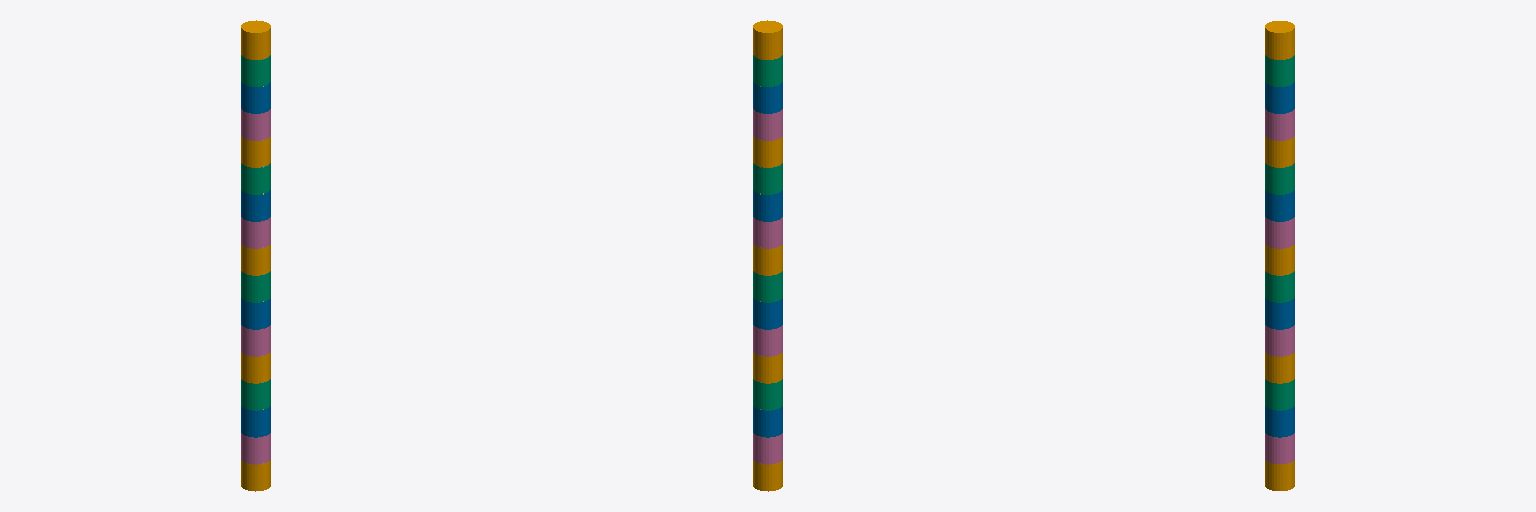
--- Facts derived from the render (not from the file) ---
3 views of the same robot in one strip: view 1: azimuth 30°, elevation 25°; view 2: azimuth 150°, elevation 25°; view 3: azimuth 270°, elevation 25° (orthographic).
Robot: snake — 33 links, 32 joints (32 revolute); root link module_15; default pose: every joint at zero.
Links seen in each view (by area): view 1: module_15, module_14.0, module_12.0, module_7.0, module_6.0, module_5.0, module_0.0, module_11.0, module_10.0, module_9.0, module_3.0, module_2.0 (+5 smaller); view 2: module_15, module_14.0, module_12.0, module_11.0, module_7.0, module_6.0, module_5.0, module_0.0, module_10.0, module_9.0, module_3.0, module_2.0 (+5 smaller); view 3: module_15, module_14.0, module_11.0, module_10.0, module_7.0, module_6.0, module_5.0, module_3.0, module_13.0, module_12.0, module_9.0, module_8.0 (+5 smaller).
Boxes of the visible links, <box> form: module_15: <box>241,20,270,59</box>; module_14.0: <box>241,55,270,86</box>; module_12.0: <box>241,109,270,140</box>; module_7.0: <box>241,244,270,275</box>; module_6.0: <box>241,271,270,302</box>; module_5.0: <box>241,298,270,329</box>; module_0.0: <box>241,433,270,464</box>; module_11.0: <box>241,136,270,167</box>; module_10.0: <box>241,163,270,194</box>; module_9.0: <box>241,190,270,221</box>; module_3.0: <box>241,352,270,383</box>; module_2.0: <box>241,379,270,410</box>; module_15: <box>753,20,782,59</box>; module_14.0: <box>753,55,782,86</box>; module_12.0: <box>753,109,782,140</box>; module_11.0: <box>753,136,782,167</box>; module_7.0: <box>753,244,782,275</box>; module_6.0: <box>753,271,782,302</box>; module_5.0: <box>753,298,782,329</box>; module_0.0: <box>753,433,782,464</box>; module_10.0: <box>753,163,782,194</box>; module_9.0: <box>753,190,782,221</box>; module_3.0: <box>753,352,782,383</box>; module_2.0: <box>753,379,782,410</box>; module_15: <box>1265,21,1294,59</box>; module_14.0: <box>1265,55,1294,86</box>; module_11.0: <box>1265,136,1294,167</box>; module_10.0: <box>1265,163,1294,194</box>; module_7.0: <box>1265,244,1294,275</box>; module_6.0: <box>1265,271,1294,302</box>; module_5.0: <box>1265,298,1294,329</box>; module_3.0: <box>1265,352,1294,383</box>; module_13.0: <box>1265,82,1294,113</box>; module_12.0: <box>1265,109,1294,140</box>; module_9.0: <box>1265,190,1294,221</box>; module_8.0: <box>1265,217,1294,248</box>.
Bounding box of the posed robot: 0.05 × 0.05 × 0.85 m (x, y, z).
Geometry: primitives only (box / cylinder / sphere), no mesh files.

robot.urdf — snake:
<?xml version="1.0" ?>
<!-- =================================================================================== -->
<!-- |    This document was autogenerated by xacro from snake.xacro                    | -->
<!-- |    EDITING THIS FILE BY HAND IS NOT RECOMMENDED                                 | -->
<!-- =================================================================================== -->
<robot name="snake" xmlns:xacro="http://www.ros.org/wiki/xacro">
  <!-- snake properties -->
  <!-- 1=simple_joint -1=springy_joint -->
  <!-- Spring joints are joints with a center springy link-->
  <!-- Spring joint revolute -->
  <!-- Spring joint spherical -->
  <!-- Simple joints are simple, lightly damped and frictioned joints-->
  <!--  -->
  <!-- Simple joint spherical -->
  <link name="module_15">
    <collision>
      <geometry>
        <cylinder length="0.05" radius="0.025"/>
      </geometry>
      <origin rpy="0 0 0" xyz="0 0 -0.025"/>
    </collision>
    <visual>
      <geometry>
        <cylinder length="0.05" radius="0.025"/>
      </geometry>
      <origin rpy="0 0 0" xyz="0 0 -0.025"/>
    </visual>
    <inertial>
      <origin rpy="0 0 0" xyz="0 0 -0.025"/>
      <mass value="0.159"/>
      <inertia ixx="0.00006" ixy="0" ixz="0" iyy="0.00006" iyz="0" izz="0.00006"/>
    </inertial>
  </link>
  <!-- Springy joint -->
  <joint name="joint_15_m" type="revolute">
    <limit effort="1000.0" lower="-1.57075" upper="1.57075" velocity="10"/>
    <dynamics damping="0.001" friction="0.2"/>
    <parent link="module_15"/>
    <child link="spring_15"/>
    <origin xyz="0 0 -0.05"/>
    <axis xyz="0 1 0"/>
  </joint>
  <link name="spring_15">
    <visual>
      <geometry>
        <cylinder length="0.05" radius=".001"/>
      </geometry>
      <origin rpy="1.57075 0 0" xyz="0 0 0"/>
    </visual>
    <inertial>
      <mass value="0.001"/>
      <inertia ixx="0.0" ixy="0.0" ixz="0.0" iyy="0.0" iyz="0.0" izz="0.0"/>
    </inertial>
  </link>
  <joint name="joint_15_14.0" type="revolute">
    <limit effort="1000.0" lower="-1.57075" upper="1.57075" velocity="10"/>
    <!-- <dynamics damping="${damping}" friction="${friction}" /> -->
    <parent link="spring_15"/>
    <child link="module_14.0"/>
    <origin rpy="0 0 0" xyz="0 0 0"/>
    <axis xyz="0 1 0"/>
  </joint>
  <link name="module_14.0">
    <collision>
      <geometry>
        <cylinder length="0.05" radius="0.025"/>
      </geometry>
      <origin rpy="0 0 0" xyz="0 0 -0.025"/>
    </collision>
    <visual>
      <geometry>
        <cylinder length="0.05" radius="0.025"/>
      </geometry>
      <origin rpy="0 0 0" xyz="0 0 -0.025"/>
    </visual>
    <inertial>
      <origin rpy="0 0 0" xyz="0 0 -0.025"/>
      <mass value="0.159"/>
      <inertia ixx="0.00006" ixy="0" ixz="0" iyy="0.00006" iyz="0" izz="0.00006"/>
    </inertial>
  </link>
  <!-- Springy joint -->
  <joint name="joint_14.0_m" type="revolute">
    <limit effort="1000.0" lower="-1.57075" upper="1.57075" velocity="10"/>
    <dynamics damping="0.001" friction="0.2"/>
    <parent link="module_14.0"/>
    <child link="spring_14.0"/>
    <origin xyz="0 0 -0.05"/>
    <axis xyz="1 0 0"/>
  </joint>
  <link name="spring_14.0">
    <visual>
      <geometry>
        <cylinder length="0.05" radius=".001"/>
      </geometry>
      <origin rpy="1.57075 0 0" xyz="0 0 0"/>
    </visual>
    <inertial>
      <mass value="0.001"/>
      <inertia ixx="0.0" ixy="0.0" ixz="0.0" iyy="0.0" iyz="0.0" izz="0.0"/>
    </inertial>
  </link>
  <joint name="joint_14.0_13.0" type="revolute">
    <limit effort="1000.0" lower="-1.57075" upper="1.57075" velocity="10"/>
    <!-- <dynamics damping="${damping}" friction="${friction}" /> -->
    <parent link="spring_14.0"/>
    <child link="module_13.0"/>
    <origin rpy="0 0 0" xyz="0 0 0"/>
    <axis xyz="1 0 0"/>
  </joint>
  <link name="module_13.0">
    <collision>
      <geometry>
        <cylinder length="0.05" radius="0.025"/>
      </geometry>
      <origin rpy="0 0 0" xyz="0 0 -0.025"/>
    </collision>
    <visual>
      <geometry>
        <cylinder length="0.05" radius="0.025"/>
      </geometry>
      <origin rpy="0 0 0" xyz="0 0 -0.025"/>
    </visual>
    <inertial>
      <origin rpy="0 0 0" xyz="0 0 -0.025"/>
      <mass value="0.159"/>
      <inertia ixx="0.00006" ixy="0" ixz="0" iyy="0.00006" iyz="0" izz="0.00006"/>
    </inertial>
  </link>
  <!-- Springy joint -->
  <joint name="joint_13.0_m" type="revolute">
    <limit effort="1000.0" lower="-1.57075" upper="1.57075" velocity="10"/>
    <dynamics damping="0.001" friction="0.2"/>
    <parent link="module_13.0"/>
    <child link="spring_13.0"/>
    <origin xyz="0 0 -0.05"/>
    <axis xyz="0 1 0"/>
  </joint>
  <link name="spring_13.0">
    <visual>
      <geometry>
        <cylinder length="0.05" radius=".001"/>
      </geometry>
      <origin rpy="1.57075 0 0" xyz="0 0 0"/>
    </visual>
    <inertial>
      <mass value="0.001"/>
      <inertia ixx="0.0" ixy="0.0" ixz="0.0" iyy="0.0" iyz="0.0" izz="0.0"/>
    </inertial>
  </link>
  <joint name="joint_13.0_12.0" type="revolute">
    <limit effort="1000.0" lower="-1.57075" upper="1.57075" velocity="10"/>
    <!-- <dynamics damping="${damping}" friction="${friction}" /> -->
    <parent link="spring_13.0"/>
    <child link="module_12.0"/>
    <origin rpy="0 0 0" xyz="0 0 0"/>
    <axis xyz="0 1 0"/>
  </joint>
  <link name="module_12.0">
    <collision>
      <geometry>
        <cylinder length="0.05" radius="0.025"/>
      </geometry>
      <origin rpy="0 0 0" xyz="0 0 -0.025"/>
    </collision>
    <visual>
      <geometry>
        <cylinder length="0.05" radius="0.025"/>
      </geometry>
      <origin rpy="0 0 0" xyz="0 0 -0.025"/>
    </visual>
    <inertial>
      <origin rpy="0 0 0" xyz="0 0 -0.025"/>
      <mass value="0.159"/>
      <inertia ixx="0.00006" ixy="0" ixz="0" iyy="0.00006" iyz="0" izz="0.00006"/>
    </inertial>
  </link>
  <!-- Springy joint -->
  <joint name="joint_12.0_m" type="revolute">
    <limit effort="1000.0" lower="-1.57075" upper="1.57075" velocity="10"/>
    <dynamics damping="0.001" friction="0.2"/>
    <parent link="module_12.0"/>
    <child link="spring_12.0"/>
    <origin xyz="0 0 -0.05"/>
    <axis xyz="1 0 0"/>
  </joint>
  <link name="spring_12.0">
    <visual>
      <geometry>
        <cylinder length="0.05" radius=".001"/>
      </geometry>
      <origin rpy="1.57075 0 0" xyz="0 0 0"/>
    </visual>
    <inertial>
      <mass value="0.001"/>
      <inertia ixx="0.0" ixy="0.0" ixz="0.0" iyy="0.0" iyz="0.0" izz="0.0"/>
    </inertial>
  </link>
  <joint name="joint_12.0_11.0" type="revolute">
    <limit effort="1000.0" lower="-1.57075" upper="1.57075" velocity="10"/>
    <!-- <dynamics damping="${damping}" friction="${friction}" /> -->
    <parent link="spring_12.0"/>
    <child link="module_11.0"/>
    <origin rpy="0 0 0" xyz="0 0 0"/>
    <axis xyz="1 0 0"/>
  </joint>
  <link name="module_11.0">
    <collision>
      <geometry>
        <cylinder length="0.05" radius="0.025"/>
      </geometry>
      <origin rpy="0 0 0" xyz="0 0 -0.025"/>
    </collision>
    <visual>
      <geometry>
        <cylinder length="0.05" radius="0.025"/>
      </geometry>
      <origin rpy="0 0 0" xyz="0 0 -0.025"/>
    </visual>
    <inertial>
      <origin rpy="0 0 0" xyz="0 0 -0.025"/>
      <mass value="0.159"/>
      <inertia ixx="0.00006" ixy="0" ixz="0" iyy="0.00006" iyz="0" izz="0.00006"/>
    </inertial>
  </link>
  <!-- Springy joint -->
  <joint name="joint_11.0_m" type="revolute">
    <limit effort="1000.0" lower="-1.57075" upper="1.57075" velocity="10"/>
    <dynamics damping="0.001" friction="0.2"/>
    <parent link="module_11.0"/>
    <child link="spring_11.0"/>
    <origin xyz="0 0 -0.05"/>
    <axis xyz="0 1 0"/>
  </joint>
  <link name="spring_11.0">
    <visual>
      <geometry>
        <cylinder length="0.05" radius=".001"/>
      </geometry>
      <origin rpy="1.57075 0 0" xyz="0 0 0"/>
    </visual>
    <inertial>
      <mass value="0.001"/>
      <inertia ixx="0.0" ixy="0.0" ixz="0.0" iyy="0.0" iyz="0.0" izz="0.0"/>
    </inertial>
  </link>
  <joint name="joint_11.0_10.0" type="revolute">
    <limit effort="1000.0" lower="-1.57075" upper="1.57075" velocity="10"/>
    <!-- <dynamics damping="${damping}" friction="${friction}" /> -->
    <parent link="spring_11.0"/>
    <child link="module_10.0"/>
    <origin rpy="0 0 0" xyz="0 0 0"/>
    <axis xyz="0 1 0"/>
  </joint>
  <link name="module_10.0">
    <collision>
      <geometry>
        <cylinder length="0.05" radius="0.025"/>
      </geometry>
      <origin rpy="0 0 0" xyz="0 0 -0.025"/>
    </collision>
    <visual>
      <geometry>
        <cylinder length="0.05" radius="0.025"/>
      </geometry>
      <origin rpy="0 0 0" xyz="0 0 -0.025"/>
    </visual>
    <inertial>
      <origin rpy="0 0 0" xyz="0 0 -0.025"/>
      <mass value="0.159"/>
      <inertia ixx="0.00006" ixy="0" ixz="0" iyy="0.00006" iyz="0" izz="0.00006"/>
    </inertial>
  </link>
  <!-- Springy joint -->
  <joint name="joint_10.0_m" type="revolute">
    <limit effort="1000.0" lower="-1.57075" upper="1.57075" velocity="10"/>
    <dynamics damping="0.001" friction="0.2"/>
    <parent link="module_10.0"/>
    <child link="spring_10.0"/>
    <origin xyz="0 0 -0.05"/>
    <axis xyz="1 0 0"/>
  </joint>
  <link name="spring_10.0">
    <visual>
      <geometry>
        <cylinder length="0.05" radius=".001"/>
      </geometry>
      <origin rpy="1.57075 0 0" xyz="0 0 0"/>
    </visual>
    <inertial>
      <mass value="0.001"/>
      <inertia ixx="0.0" ixy="0.0" ixz="0.0" iyy="0.0" iyz="0.0" izz="0.0"/>
    </inertial>
  </link>
  <joint name="joint_10.0_9.0" type="revolute">
    <limit effort="1000.0" lower="-1.57075" upper="1.57075" velocity="10"/>
    <!-- <dynamics damping="${damping}" friction="${friction}" /> -->
    <parent link="spring_10.0"/>
    <child link="module_9.0"/>
    <origin rpy="0 0 0" xyz="0 0 0"/>
    <axis xyz="1 0 0"/>
  </joint>
  <link name="module_9.0">
    <collision>
      <geometry>
        <cylinder length="0.05" radius="0.025"/>
      </geometry>
      <origin rpy="0 0 0" xyz="0 0 -0.025"/>
    </collision>
    <visual>
      <geometry>
        <cylinder length="0.05" radius="0.025"/>
      </geometry>
      <origin rpy="0 0 0" xyz="0 0 -0.025"/>
    </visual>
    <inertial>
      <origin rpy="0 0 0" xyz="0 0 -0.025"/>
      <mass value="0.159"/>
      <inertia ixx="0.00006" ixy="0" ixz="0" iyy="0.00006" iyz="0" izz="0.00006"/>
    </inertial>
  </link>
  <!-- Springy joint -->
  <joint name="joint_9.0_m" type="revolute">
    <limit effort="1000.0" lower="-1.57075" upper="1.57075" velocity="10"/>
    <dynamics damping="0.001" friction="0.2"/>
    <parent link="module_9.0"/>
    <child link="spring_9.0"/>
    <origin xyz="0 0 -0.05"/>
    <axis xyz="0 1 0"/>
  </joint>
  <link name="spring_9.0">
    <visual>
      <geometry>
        <cylinder length="0.05" radius=".001"/>
      </geometry>
      <origin rpy="1.57075 0 0" xyz="0 0 0"/>
    </visual>
    <inertial>
      <mass value="0.001"/>
      <inertia ixx="0.0" ixy="0.0" ixz="0.0" iyy="0.0" iyz="0.0" izz="0.0"/>
    </inertial>
  </link>
  <joint name="joint_9.0_8.0" type="revolute">
    <limit effort="1000.0" lower="-1.57075" upper="1.57075" velocity="10"/>
    <!-- <dynamics damping="${damping}" friction="${friction}" /> -->
    <parent link="spring_9.0"/>
    <child link="module_8.0"/>
    <origin rpy="0 0 0" xyz="0 0 0"/>
    <axis xyz="0 1 0"/>
  </joint>
  <link name="module_8.0">
    <collision>
      <geometry>
        <cylinder length="0.05" radius="0.025"/>
      </geometry>
      <origin rpy="0 0 0" xyz="0 0 -0.025"/>
    </collision>
    <visual>
      <geometry>
        <cylinder length="0.05" radius="0.025"/>
      </geometry>
      <origin rpy="0 0 0" xyz="0 0 -0.025"/>
    </visual>
    <inertial>
      <origin rpy="0 0 0" xyz="0 0 -0.025"/>
      <mass value="0.159"/>
      <inertia ixx="0.00006" ixy="0" ixz="0" iyy="0.00006" iyz="0" izz="0.00006"/>
    </inertial>
  </link>
  <!-- Springy joint -->
  <joint name="joint_8.0_m" type="revolute">
    <limit effort="1000.0" lower="-1.57075" upper="1.57075" velocity="10"/>
    <dynamics damping="0.001" friction="0.2"/>
    <parent link="module_8.0"/>
    <child link="spring_8.0"/>
    <origin xyz="0 0 -0.05"/>
    <axis xyz="1 0 0"/>
  </joint>
  <link name="spring_8.0">
    <visual>
      <geometry>
        <cylinder length="0.05" radius=".001"/>
      </geometry>
      <origin rpy="1.57075 0 0" xyz="0 0 0"/>
    </visual>
    <inertial>
      <mass value="0.001"/>
      <inertia ixx="0.0" ixy="0.0" ixz="0.0" iyy="0.0" iyz="0.0" izz="0.0"/>
    </inertial>
  </link>
  <joint name="joint_8.0_7.0" type="revolute">
    <limit effort="1000.0" lower="-1.57075" upper="1.57075" velocity="10"/>
    <!-- <dynamics damping="${damping}" friction="${friction}" /> -->
    <parent link="spring_8.0"/>
    <child link="module_7.0"/>
    <origin rpy="0 0 0" xyz="0 0 0"/>
    <axis xyz="1 0 0"/>
  </joint>
  <link name="module_7.0">
    <collision>
      <geometry>
        <cylinder length="0.05" radius="0.025"/>
      </geometry>
      <origin rpy="0 0 0" xyz="0 0 -0.025"/>
    </collision>
    <visual>
      <geometry>
        <cylinder length="0.05" radius="0.025"/>
      </geometry>
      <origin rpy="0 0 0" xyz="0 0 -0.025"/>
    </visual>
    <inertial>
      <origin rpy="0 0 0" xyz="0 0 -0.025"/>
      <mass value="0.159"/>
      <inertia ixx="0.00006" ixy="0" ixz="0" iyy="0.00006" iyz="0" izz="0.00006"/>
    </inertial>
  </link>
  <!-- Springy joint -->
  <joint name="joint_7.0_m" type="revolute">
    <limit effort="1000.0" lower="-1.57075" upper="1.57075" velocity="10"/>
    <dynamics damping="0.001" friction="0.2"/>
    <parent link="module_7.0"/>
    <child link="spring_7.0"/>
    <origin xyz="0 0 -0.05"/>
    <axis xyz="0 1 0"/>
  </joint>
  <link name="spring_7.0">
    <visual>
      <geometry>
        <cylinder length="0.05" radius=".001"/>
      </geometry>
      <origin rpy="1.57075 0 0" xyz="0 0 0"/>
    </visual>
    <inertial>
      <mass value="0.001"/>
      <inertia ixx="0.0" ixy="0.0" ixz="0.0" iyy="0.0" iyz="0.0" izz="0.0"/>
    </inertial>
  </link>
  <joint name="joint_7.0_6.0" type="revolute">
    <limit effort="1000.0" lower="-1.57075" upper="1.57075" velocity="10"/>
    <!-- <dynamics damping="${damping}" friction="${friction}" /> -->
    <parent link="spring_7.0"/>
    <child link="module_6.0"/>
    <origin rpy="0 0 0" xyz="0 0 0"/>
    <axis xyz="0 1 0"/>
  </joint>
  <link name="module_6.0">
    <collision>
      <geometry>
        <cylinder length="0.05" radius="0.025"/>
      </geometry>
      <origin rpy="0 0 0" xyz="0 0 -0.025"/>
    </collision>
    <visual>
      <geometry>
        <cylinder length="0.05" radius="0.025"/>
      </geometry>
      <origin rpy="0 0 0" xyz="0 0 -0.025"/>
    </visual>
    <inertial>
      <origin rpy="0 0 0" xyz="0 0 -0.025"/>
      <mass value="0.159"/>
      <inertia ixx="0.00006" ixy="0" ixz="0" iyy="0.00006" iyz="0" izz="0.00006"/>
    </inertial>
  </link>
  <!-- Springy joint -->
  <joint name="joint_6.0_m" type="revolute">
    <limit effort="1000.0" lower="-1.57075" upper="1.57075" velocity="10"/>
    <dynamics damping="0.001" friction="0.2"/>
    <parent link="module_6.0"/>
    <child link="spring_6.0"/>
    <origin xyz="0 0 -0.05"/>
    <axis xyz="1 0 0"/>
  </joint>
  <link name="spring_6.0">
    <visual>
      <geometry>
        <cylinder length="0.05" radius=".001"/>
      </geometry>
      <origin rpy="1.57075 0 0" xyz="0 0 0"/>
    </visual>
    <inertial>
      <mass value="0.001"/>
      <inertia ixx="0.0" ixy="0.0" ixz="0.0" iyy="0.0" iyz="0.0" izz="0.0"/>
    </inertial>
  </link>
  <joint name="joint_6.0_5.0" type="revolute">
    <limit effort="1000.0" lower="-1.57075" upper="1.57075" velocity="10"/>
    <!-- <dynamics damping="${damping}" friction="${friction}" /> -->
    <parent link="spring_6.0"/>
    <child link="module_5.0"/>
    <origin rpy="0 0 0" xyz="0 0 0"/>
    <axis xyz="1 0 0"/>
  </joint>
  <link name="module_5.0">
    <collision>
      <geometry>
        <cylinder length="0.05" radius="0.025"/>
      </geometry>
      <origin rpy="0 0 0" xyz="0 0 -0.025"/>
    </collision>
    <visual>
      <geometry>
        <cylinder length="0.05" radius="0.025"/>
      </geometry>
      <origin rpy="0 0 0" xyz="0 0 -0.025"/>
    </visual>
    <inertial>
      <origin rpy="0 0 0" xyz="0 0 -0.025"/>
      <mass value="0.159"/>
      <inertia ixx="0.00006" ixy="0" ixz="0" iyy="0.00006" iyz="0" izz="0.00006"/>
    </inertial>
  </link>
  <!-- Springy joint -->
  <joint name="joint_5.0_m" type="revolute">
    <limit effort="1000.0" lower="-1.57075" upper="1.57075" velocity="10"/>
    <dynamics damping="0.001" friction="0.2"/>
    <parent link="module_5.0"/>
    <child link="spring_5.0"/>
    <origin xyz="0 0 -0.05"/>
    <axis xyz="0 1 0"/>
  </joint>
  <link name="spring_5.0">
    <visual>
      <geometry>
        <cylinder length="0.05" radius=".001"/>
      </geometry>
      <origin rpy="1.57075 0 0" xyz="0 0 0"/>
    </visual>
    <inertial>
      <mass value="0.001"/>
      <inertia ixx="0.0" ixy="0.0" ixz="0.0" iyy="0.0" iyz="0.0" izz="0.0"/>
    </inertial>
  </link>
  <joint name="joint_5.0_4.0" type="revolute">
    <limit effort="1000.0" lower="-1.57075" upper="1.57075" velocity="10"/>
    <!-- <dynamics damping="${damping}" friction="${friction}" /> -->
    <parent link="spring_5.0"/>
    <child link="module_4.0"/>
    <origin rpy="0 0 0" xyz="0 0 0"/>
    <axis xyz="0 1 0"/>
  </joint>
  <link name="module_4.0">
    <collision>
      <geometry>
        <cylinder length="0.05" radius="0.025"/>
      </geometry>
      <origin rpy="0 0 0" xyz="0 0 -0.025"/>
    </collision>
    <visual>
      <geometry>
        <cylinder length="0.05" radius="0.025"/>
      </geometry>
      <origin rpy="0 0 0" xyz="0 0 -0.025"/>
    </visual>
    <inertial>
      <origin rpy="0 0 0" xyz="0 0 -0.025"/>
      <mass value="0.159"/>
      <inertia ixx="0.00006" ixy="0" ixz="0" iyy="0.00006" iyz="0" izz="0.00006"/>
    </inertial>
  </link>
  <!-- Springy joint -->
  <joint name="joint_4.0_m" type="revolute">
    <limit effort="1000.0" lower="-1.57075" upper="1.57075" velocity="10"/>
    <dynamics damping="0.001" friction="0.2"/>
    <parent link="module_4.0"/>
    <child link="spring_4.0"/>
    <origin xyz="0 0 -0.05"/>
    <axis xyz="1 0 0"/>
  </joint>
  <link name="spring_4.0">
    <visual>
      <geometry>
        <cylinder length="0.05" radius=".001"/>
      </geometry>
      <origin rpy="1.57075 0 0" xyz="0 0 0"/>
    </visual>
    <inertial>
      <mass value="0.001"/>
      <inertia ixx="0.0" ixy="0.0" ixz="0.0" iyy="0.0" iyz="0.0" izz="0.0"/>
    </inertial>
  </link>
  <joint name="joint_4.0_3.0" type="revolute">
    <limit effort="1000.0" lower="-1.57075" upper="1.57075" velocity="10"/>
    <!-- <dynamics damping="${damping}" friction="${friction}" /> -->
    <parent link="spring_4.0"/>
    <child link="module_3.0"/>
    <origin rpy="0 0 0" xyz="0 0 0"/>
    <axis xyz="1 0 0"/>
  </joint>
  <link name="module_3.0">
    <collision>
      <geometry>
        <cylinder length="0.05" radius="0.025"/>
      </geometry>
      <origin rpy="0 0 0" xyz="0 0 -0.025"/>
    </collision>
    <visual>
      <geometry>
        <cylinder length="0.05" radius="0.025"/>
      </geometry>
      <origin rpy="0 0 0" xyz="0 0 -0.025"/>
    </visual>
    <inertial>
      <origin rpy="0 0 0" xyz="0 0 -0.025"/>
      <mass value="0.159"/>
      <inertia ixx="0.00006" ixy="0" ixz="0" iyy="0.00006" iyz="0" izz="0.00006"/>
    </inertial>
  </link>
  <!-- Springy joint -->
  <joint name="joint_3.0_m" type="revolute">
    <limit effort="1000.0" lower="-1.57075" upper="1.57075" velocity="10"/>
    <dynamics damping="0.001" friction="0.2"/>
    <parent link="module_3.0"/>
    <child link="spring_3.0"/>
    <origin xyz="0 0 -0.05"/>
    <axis xyz="0 1 0"/>
  </joint>
  <link name="spring_3.0">
    <visual>
      <geometry>
        <cylinder length="0.05" radius=".001"/>
      </geometry>
      <origin rpy="1.57075 0 0" xyz="0 0 0"/>
    </visual>
    <inertial>
      <mass value="0.001"/>
      <inertia ixx="0.0" ixy="0.0" ixz="0.0" iyy="0.0" iyz="0.0" izz="0.0"/>
    </inertial>
  </link>
  <joint name="joint_3.0_2.0" type="revolute">
    <limit effort="1000.0" lower="-1.57075" upper="1.57075" velocity="10"/>
    <!-- <dynamics damping="${damping}" friction="${friction}" /> -->
    <parent link="spring_3.0"/>
    <child link="module_2.0"/>
    <origin rpy="0 0 0" xyz="0 0 0"/>
    <axis xyz="0 1 0"/>
  </joint>
  <link name="module_2.0">
    <collision>
      <geometry>
        <cylinder length="0.05" radius="0.025"/>
      </geometry>
      <origin rpy="0 0 0" xyz="0 0 -0.025"/>
    </collision>
    <visual>
      <geometry>
        <cylinder length="0.05" radius="0.025"/>
      </geometry>
      <origin rpy="0 0 0" xyz="0 0 -0.025"/>
    </visual>
    <inertial>
      <origin rpy="0 0 0" xyz="0 0 -0.025"/>
      <mass value="0.159"/>
      <inertia ixx="0.00006" ixy="0" ixz="0" iyy="0.00006" iyz="0" izz="0.00006"/>
    </inertial>
  </link>
  <!-- Springy joint -->
  <joint name="joint_2.0_m" type="revolute">
    <limit effort="1000.0" lower="-1.57075" upper="1.57075" velocity="10"/>
    <dynamics damping="0.001" friction="0.2"/>
    <parent link="module_2.0"/>
    <child link="spring_2.0"/>
    <origin xyz="0 0 -0.05"/>
    <axis xyz="1 0 0"/>
  </joint>
  <link name="spring_2.0">
    <visual>
      <geometry>
        <cylinder length="0.05" radius=".001"/>
      </geometry>
      <origin rpy="1.57075 0 0" xyz="0 0 0"/>
    </visual>
    <inertial>
      <mass value="0.001"/>
      <inertia ixx="0.0" ixy="0.0" ixz="0.0" iyy="0.0" iyz="0.0" izz="0.0"/>
    </inertial>
  </link>
  <joint name="joint_2.0_1.0" type="revolute">
    <limit effort="1000.0" lower="-1.57075" upper="1.57075" velocity="10"/>
    <!-- <dynamics damping="${damping}" friction="${friction}" /> -->
    <parent link="spring_2.0"/>
    <child link="module_1.0"/>
    <origin rpy="0 0 0" xyz="0 0 0"/>
    <axis xyz="1 0 0"/>
  </joint>
  <link name="module_1.0">
    <collision>
      <geometry>
        <cylinder length="0.05" radius="0.025"/>
      </geometry>
      <origin rpy="0 0 0" xyz="0 0 -0.025"/>
    </collision>
    <visual>
      <geometry>
        <cylinder length="0.05" radius="0.025"/>
      </geometry>
      <origin rpy="0 0 0" xyz="0 0 -0.025"/>
    </visual>
    <inertial>
      <origin rpy="0 0 0" xyz="0 0 -0.025"/>
      <mass value="0.159"/>
      <inertia ixx="0.00006" ixy="0" ixz="0" iyy="0.00006" iyz="0" izz="0.00006"/>
    </inertial>
  </link>
  <!-- Springy joint -->
  <joint name="joint_1.0_m" type="revolute">
    <limit effort="1000.0" lower="-1.57075" upper="1.57075" velocity="10"/>
    <dynamics damping="0.001" friction="0.2"/>
    <parent link="module_1.0"/>
    <child link="spring_1.0"/>
    <origin xyz="0 0 -0.05"/>
    <axis xyz="0 1 0"/>
  </joint>
  <link name="spring_1.0">
    <visual>
      <geometry>
        <cylinder length="0.05" radius=".001"/>
      </geometry>
      <origin rpy="1.57075 0 0" xyz="0 0 0"/>
    </visual>
    <inertial>
      <mass value="0.001"/>
      <inertia ixx="0.0" ixy="0.0" ixz="0.0" iyy="0.0" iyz="0.0" izz="0.0"/>
    </inertial>
  </link>
  <joint name="joint_1.0_0.0" type="revolute">
    <limit effort="1000.0" lower="-1.57075" upper="1.57075" velocity="10"/>
    <!-- <dynamics damping="${damping}" friction="${friction}" /> -->
    <parent link="spring_1.0"/>
    <child link="module_0.0"/>
    <origin rpy="0 0 0" xyz="0 0 0"/>
    <axis xyz="0 1 0"/>
  </joint>
  <link name="module_0.0">
    <collision>
      <geometry>
        <cylinder length="0.05" radius="0.025"/>
      </geometry>
      <origin rpy="0 0 0" xyz="0 0 -0.025"/>
    </collision>
    <visual>
      <geometry>
        <cylinder length="0.05" radius="0.025"/>
      </geometry>
      <origin rpy="0 0 0" xyz="0 0 -0.025"/>
    </visual>
    <inertial>
      <origin rpy="0 0 0" xyz="0 0 -0.025"/>
      <mass value="0.159"/>
      <inertia ixx="0.00006" ixy="0" ixz="0" iyy="0.00006" iyz="0" izz="0.00006"/>
    </inertial>
  </link>
  <!-- Springy joint -->
  <joint name="joint_0.0_m" type="revolute">
    <limit effort="1000.0" lower="-1.57075" upper="1.57075" velocity="10"/>
    <dynamics damping="0.001" friction="0.2"/>
    <parent link="module_0.0"/>
    <child link="spring_0.0"/>
    <origin xyz="0 0 -0.05"/>
    <axis xyz="1 0 0"/>
  </joint>
  <link name="spring_0.0">
    <visual>
      <geometry>
        <cylinder length="0.05" radius=".001"/>
      </geometry>
      <origin rpy="1.57075 0 0" xyz="0 0 0"/>
    </visual>
    <inertial>
      <mass value="0.001"/>
      <inertia ixx="0.0" ixy="0.0" ixz="0.0" iyy="0.0" iyz="0.0" izz="0.0"/>
    </inertial>
  </link>
  <joint name="joint_0.0_-1.0" type="revolute">
    <limit effort="1000.0" lower="-1.57075" upper="1.57075" velocity="10"/>
    <!-- <dynamics damping="${damping}" friction="${friction}" /> -->
    <parent link="spring_0.0"/>
    <child link="module_-1.0"/>
    <origin rpy="0 0 0" xyz="0 0 0"/>
    <axis xyz="1 0 0"/>
  </joint>
  <link name="module_-1.0">
    <collision>
      <geometry>
        <cylinder length="0.05" radius="0.025"/>
      </geometry>
      <origin rpy="0 0 0" xyz="0 0 -0.025"/>
    </collision>
    <visual>
      <geometry>
        <cylinder length="0.05" radius="0.025"/>
      </geometry>
      <origin rpy="0 0 0" xyz="0 0 -0.025"/>
    </visual>
    <inertial>
      <origin rpy="0 0 0" xyz="0 0 -0.025"/>
      <mass value="0.159"/>
      <inertia ixx="0.00006" ixy="0" ixz="0" iyy="0.00006" iyz="0" izz="0.00006"/>
    </inertial>
  </link>
</robot>
